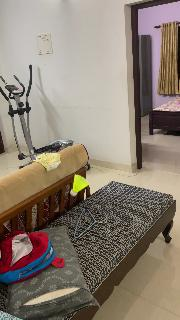shuttlecock: (70, 174, 88, 196)
